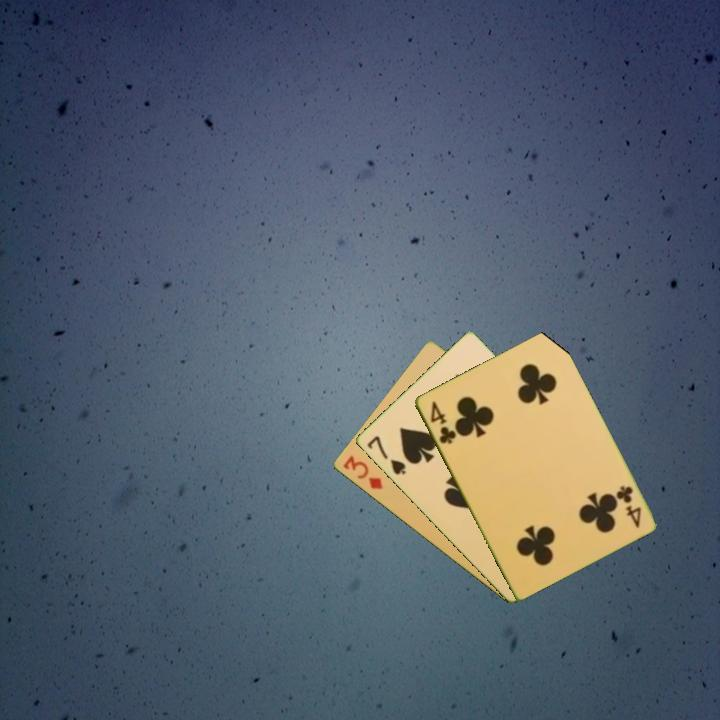3d: (339, 452, 385, 492)
4c: (426, 397, 459, 447), (612, 482, 644, 531)
7s: (363, 432, 408, 478)
